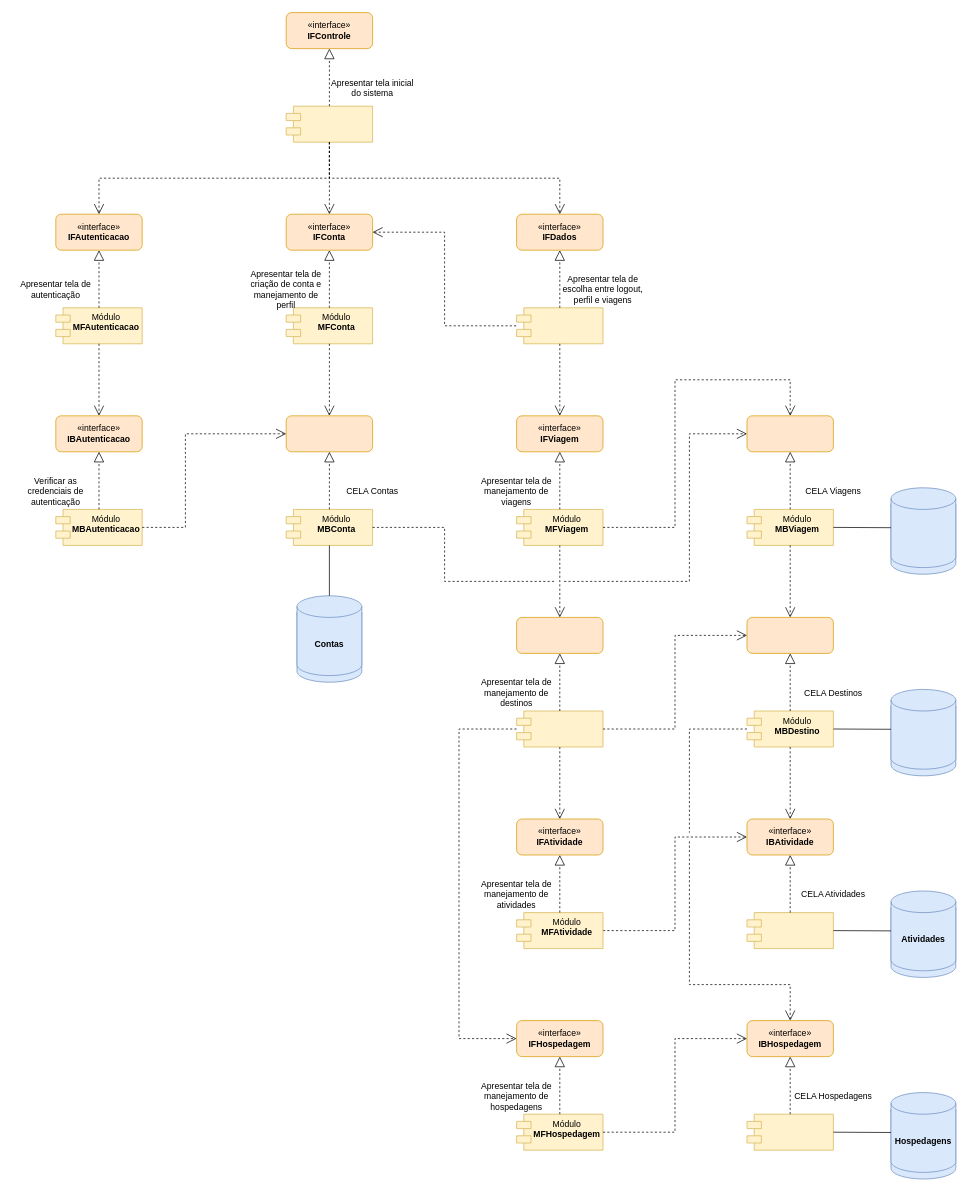
Image size: 968x1192. Some labels were removed from this diagram. The shapes that lost their labels are listed below. From the top down, each one's centre as x and y in pixels, then its label:
point 329,123: Módulo MFControle
point 559,325: Módulo MFDados
point 329,433: «interface» IBConta
point 789,433: «interface» IBViagem
point 923,527: Viagens
point 559,635: «interface» IFDestino
point 789,635: «interface» IBDestino
point 559,728: Módulo MFDestino
point 923,729: Destinos
point 789,930: Módulo MBAtividades
point 789,1131: Módulo MBHospedagem
